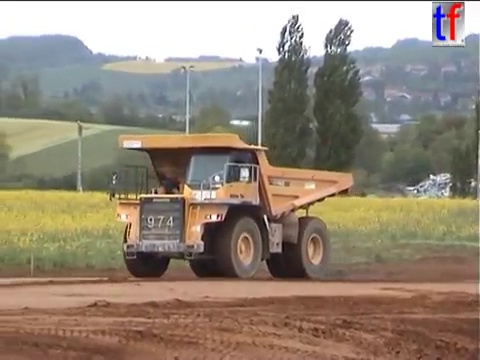truck: (105, 130, 356, 282)
